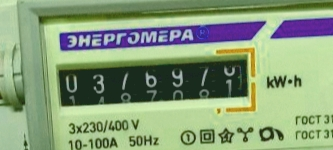0: (63, 70, 79, 92)
1: (222, 76, 235, 97)
3: (90, 71, 107, 94)
6: (142, 63, 158, 87)
7: (115, 66, 132, 90), (196, 62, 212, 86)
9: (168, 63, 185, 87)
screen: (46, 40, 262, 127)
